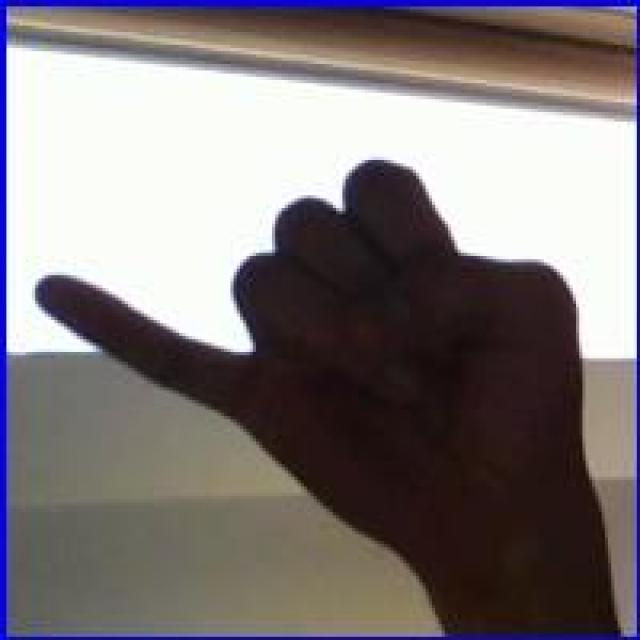J: (30, 141, 600, 547)
